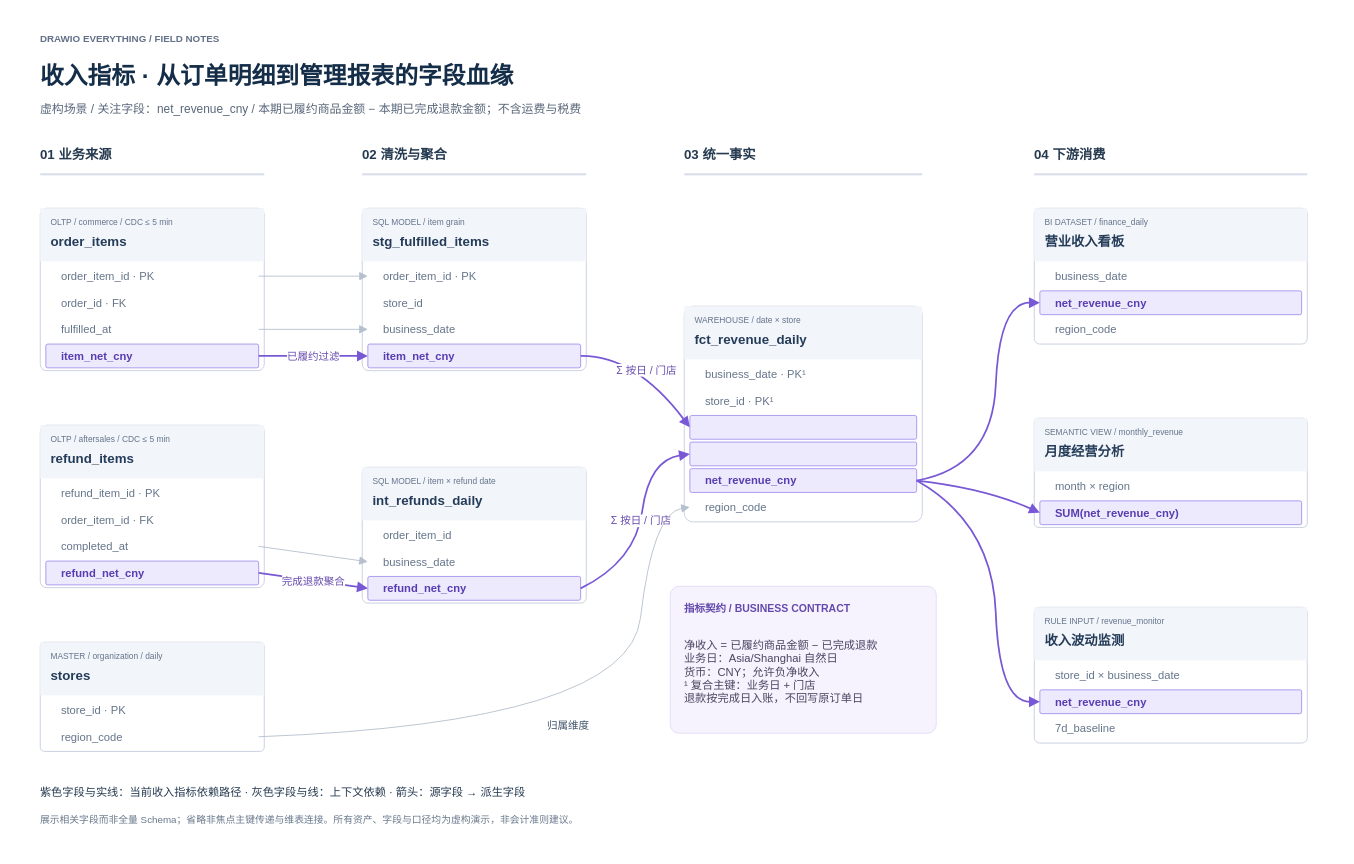
Some shapes in this 1354 by 864 pixel diagram are drawn without their labels. The centre of each missing label's shape, as x and y in pixels:
"completed_refund_cny" goes at pixel 803 453.
"fulfilled_item_cny" goes at pixel 803 427.
